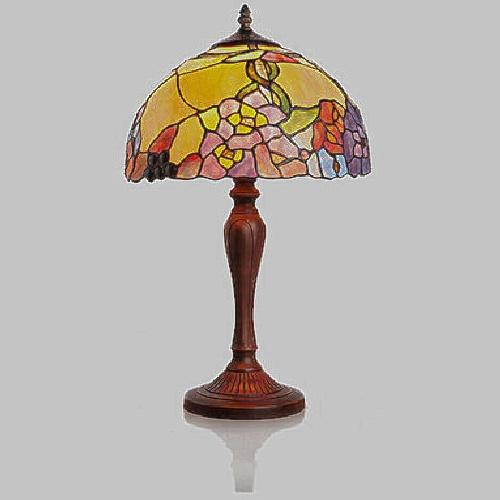lamp: (119, 19, 366, 416)
